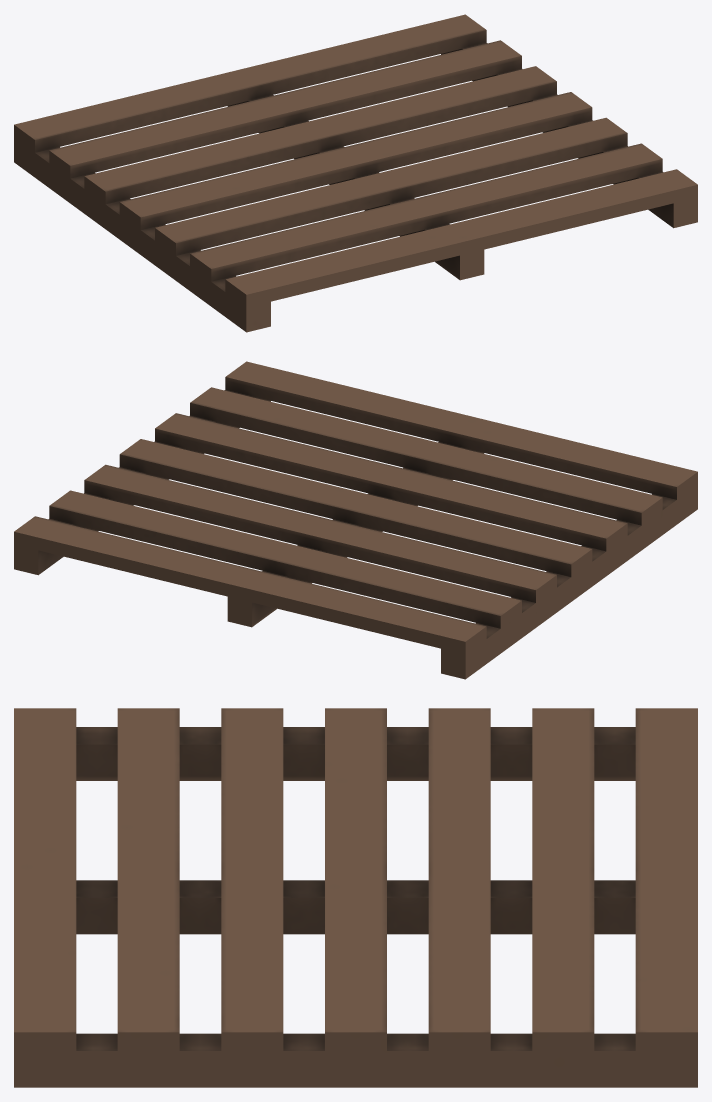
File: Pallet.fbx
3 renders of one model, top to bottom at view 1: azimuth 30°, elevation 25°; view 2: azimuth 150°, elevation 25°; view 3: azimuth 270°, elevation 25°, orthographic. The views are drawn at different scales.
Parts seen in each view (by area): view 1: Pallet; view 2: Pallet; view 3: Pallet.
Boxes of the visible parts, x1,y1,x2,y2 form: Pallet: (14, 14, 697, 332); Pallet: (14, 361, 697, 679); Pallet: (14, 708, 697, 1087).
Size of the model in its own units: 3.7 by 0.2949 by 3.3.
